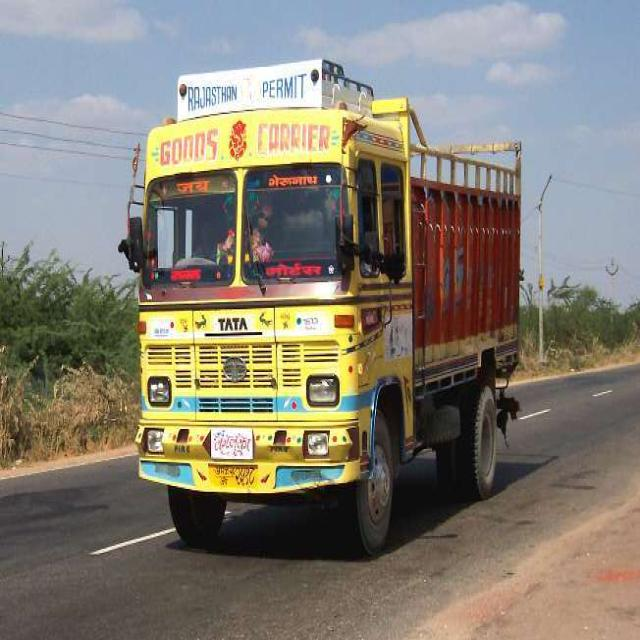truck: (120, 60, 520, 553)
